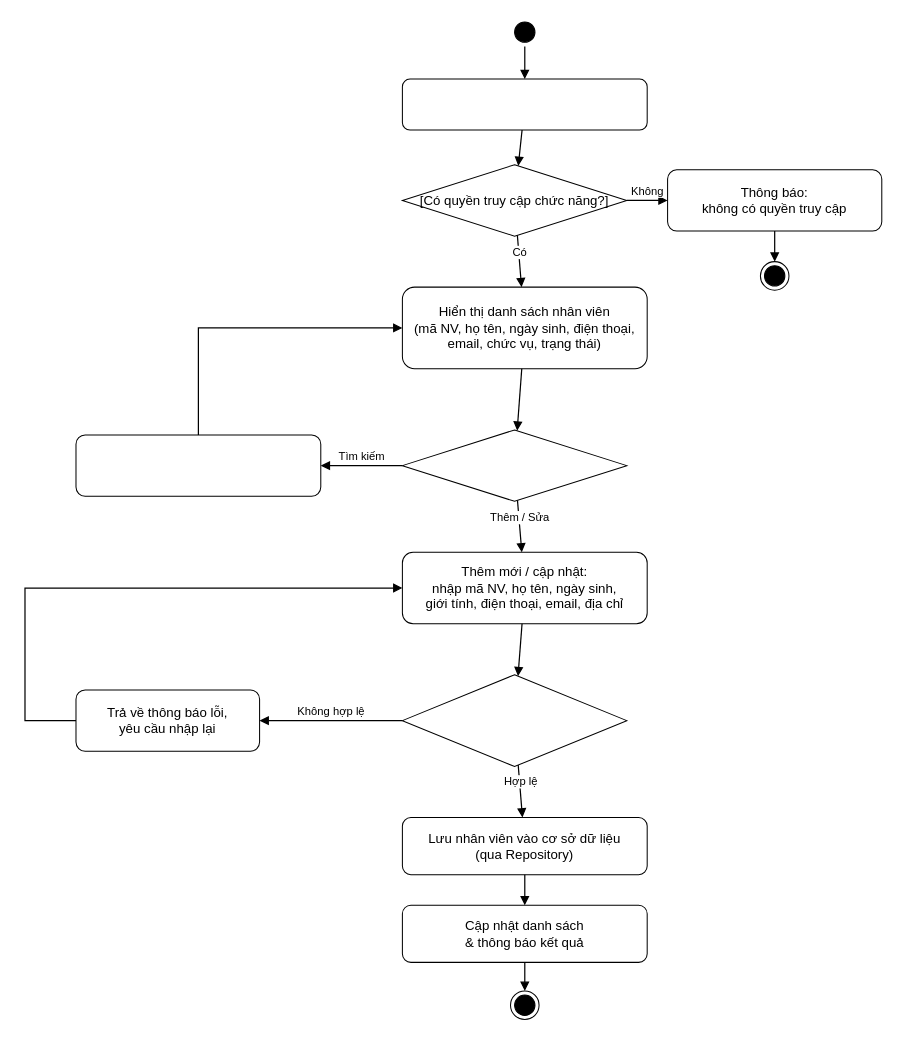
Image size: 901x1037. Some labels were removed from this diagram. The centre of each missing label's shape, as x and y in pixels:
"[Chọn thao tác]" goes at (514,465).
"[Kiểm tra hợp lệ? đủ trường, mã NV không trùng, định dạng email/điện thoại đúng]" goes at (514,720).
"Mở màn hình quản lý nhân viên" goes at (524,104).
"Tìm kiếm / lọc nhân viên (mã NV, họ tên, điện thoại, email, chức vụ, trạng thái)" goes at (198,465).
